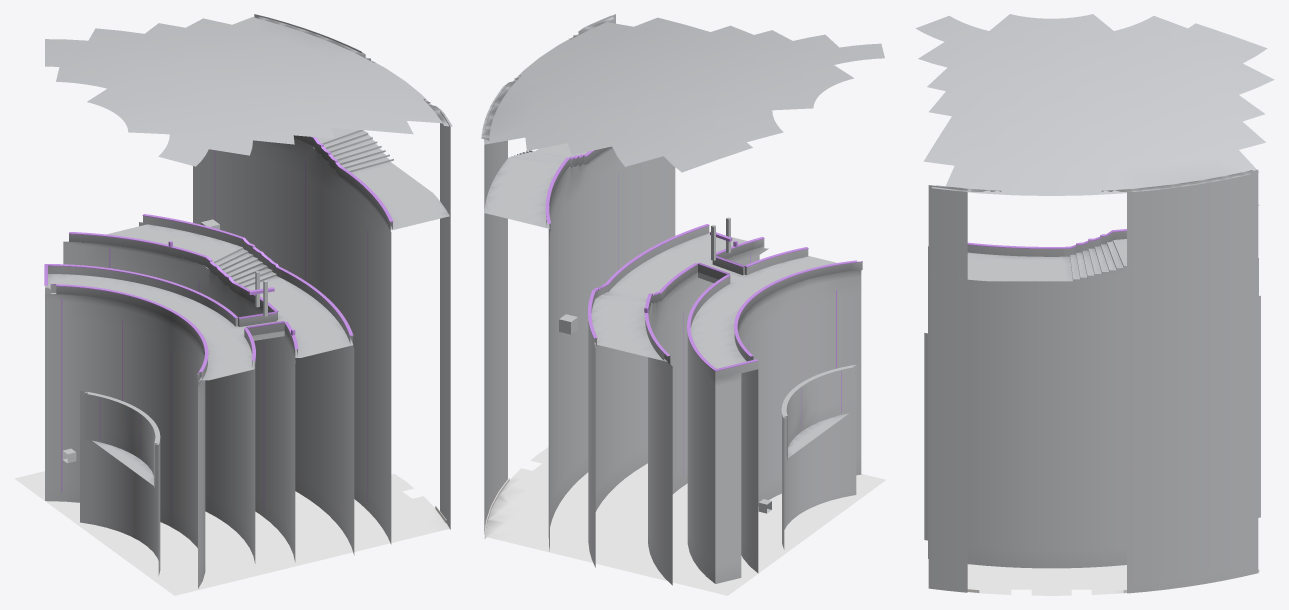
The model's file is crypt_10_ah.glb.
3 views of the same model, side by side, from view 1: azimuth 30°, elevation 25°; view 2: azimuth 150°, elevation 25°; view 3: azimuth 270°, elevation 25° (orthographic).
Visible parts, largest first — view 1: crypt_10_ah; view 2: crypt_10_ah; view 3: crypt_10_ah.
Boxes of the visible parts, x1=… form: crypt_10_ah: x1=14, y1=14, x2=452, y2=595; crypt_10_ah: x1=481, y1=14, x2=886, y2=595; crypt_10_ah: x1=915, y1=14, x2=1274, y2=595.
Size of the model in its own units: 34.36 by 48.08 by 35.85.
